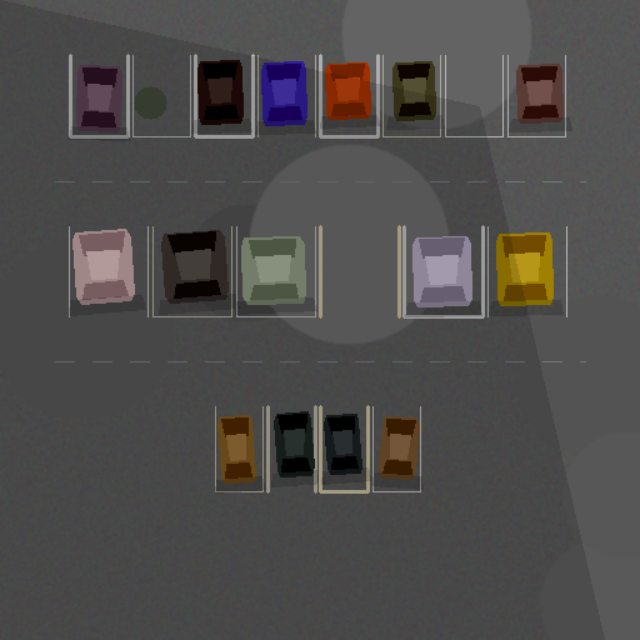space-empty: (320, 226, 399, 316), (132, 55, 190, 136), (445, 55, 502, 136)
space-occupied: (236, 226, 315, 316), (404, 226, 483, 316), (487, 226, 566, 316), (69, 226, 147, 316), (153, 226, 231, 316), (70, 55, 128, 136), (320, 55, 378, 136), (382, 55, 440, 136), (195, 55, 252, 136), (258, 55, 315, 136), (508, 55, 565, 136), (215, 406, 263, 491), (267, 406, 315, 491), (320, 406, 367, 491), (373, 406, 420, 491)
